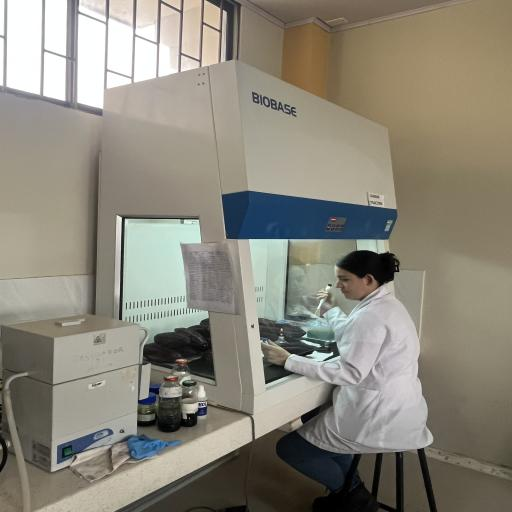Camara_Extractora_Biobase: (80, 53, 431, 423)
